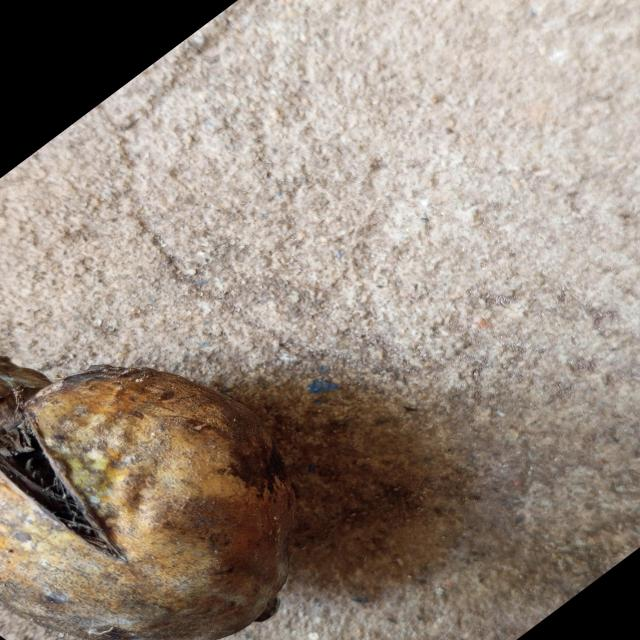damaged: (0, 367, 294, 640)
